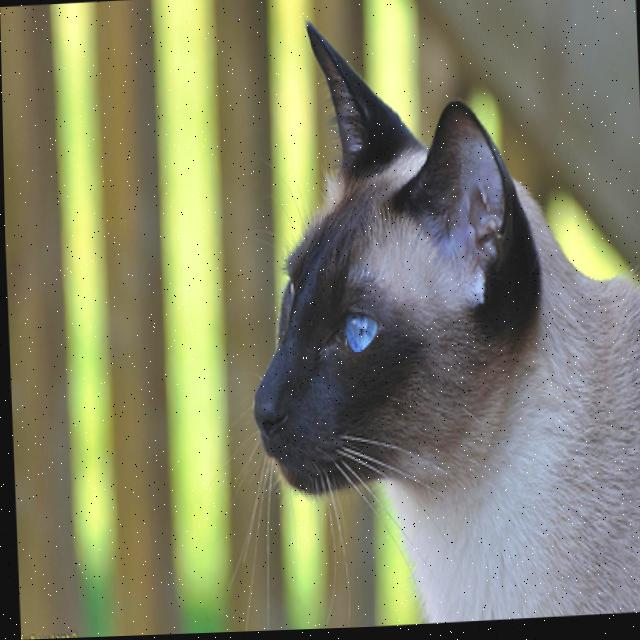Siamese: (232, 0, 640, 633)
